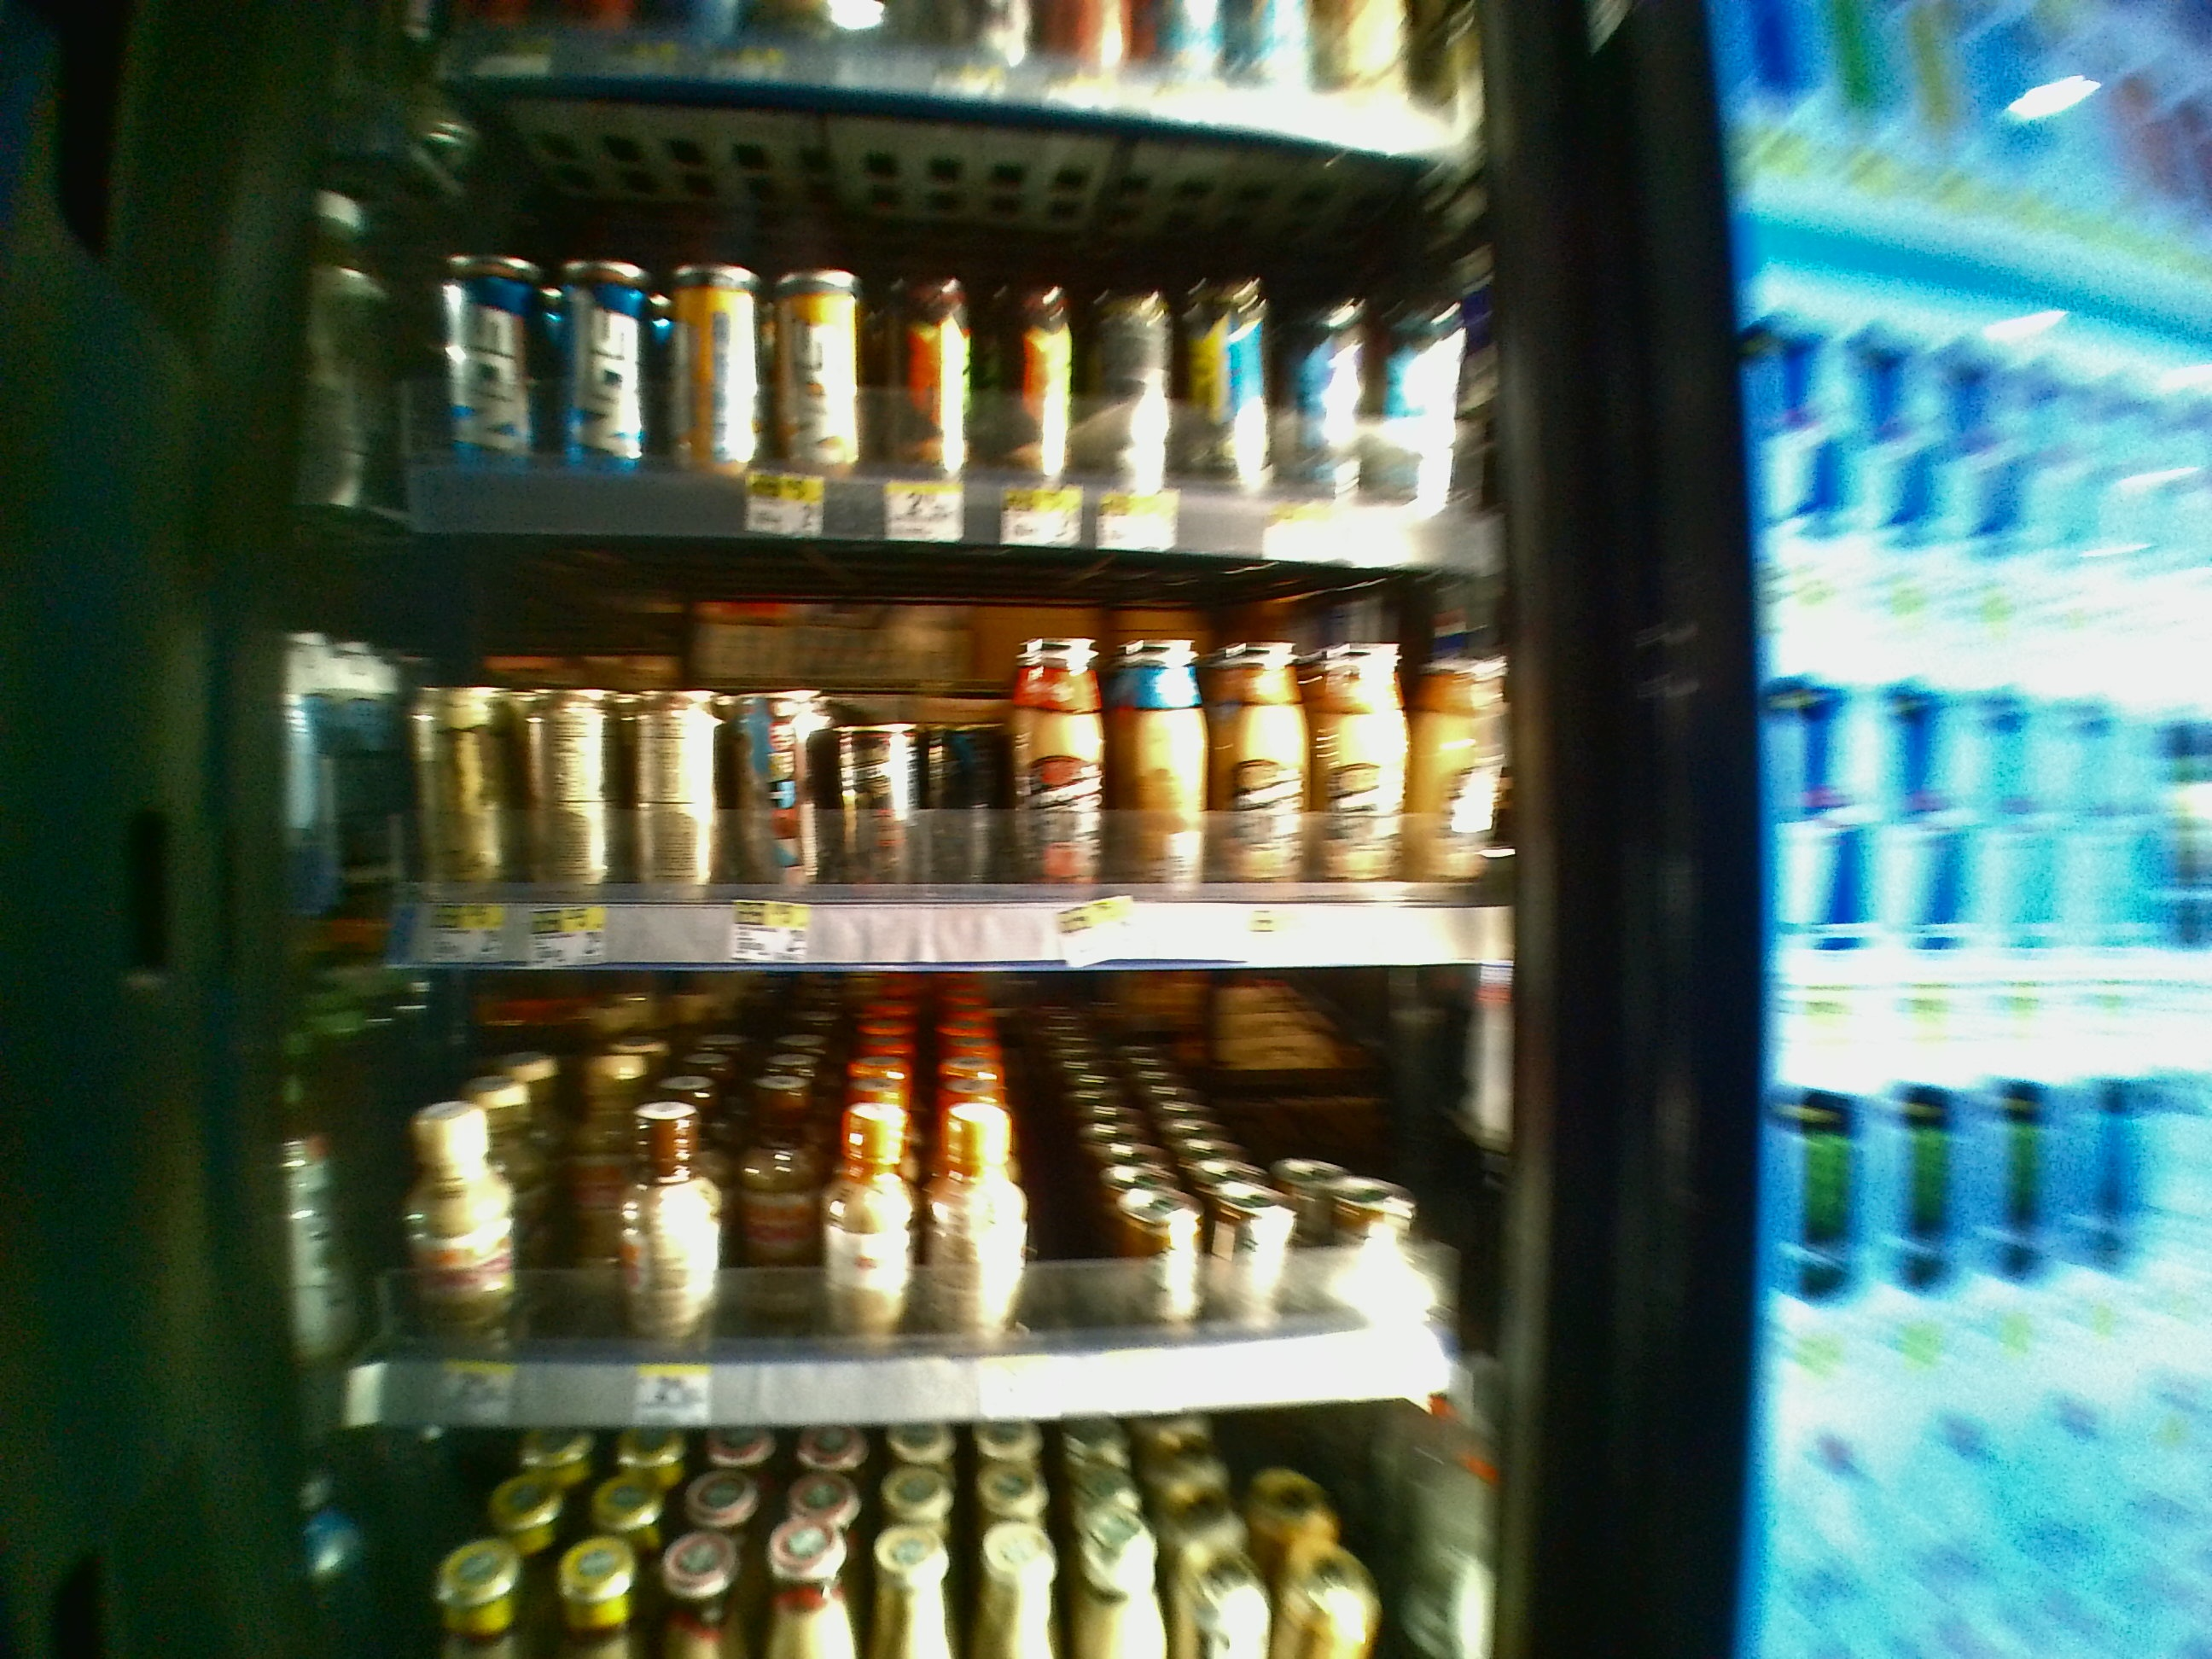shelf: (270, 526, 1533, 971), (282, 976, 1531, 1417)
